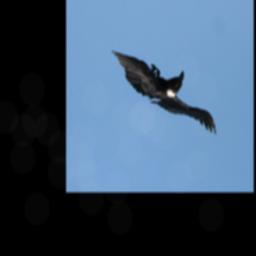Crow: (111, 51, 217, 137)
